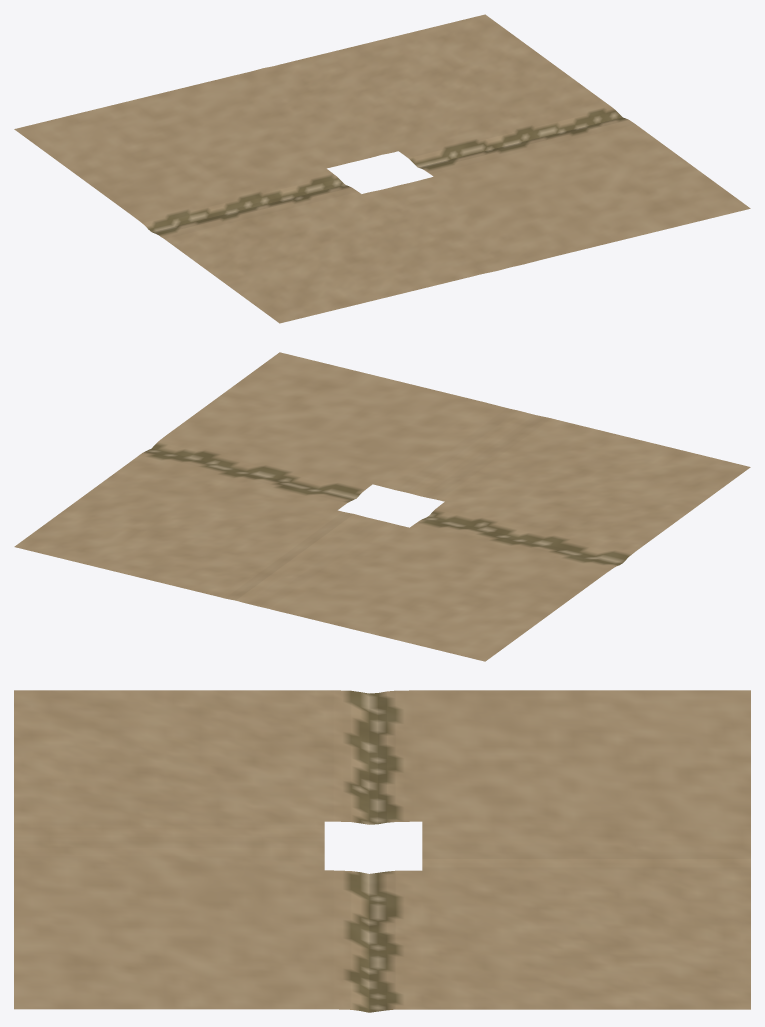
File: backdrop_ground.glb
The picture shows the model from 3 angles, top to bottom: view 1: azimuth 30°, elevation 25°; view 2: azimuth 150°, elevation 25°; view 3: azimuth 270°, elevation 25°; orthographic projection. The views are drawn at different scales.
Visible parts, largest first — view 1: FarGround; view 2: FarGround; view 3: FarGround.
Boxes of the visible parts, bbox=[...] form: FarGround: bbox=[14, 14, 750, 323]; FarGround: bbox=[14, 352, 750, 661]; FarGround: bbox=[14, 690, 750, 1012].
Size of the model in its own units: 1700 by 9.42 by 1660.
